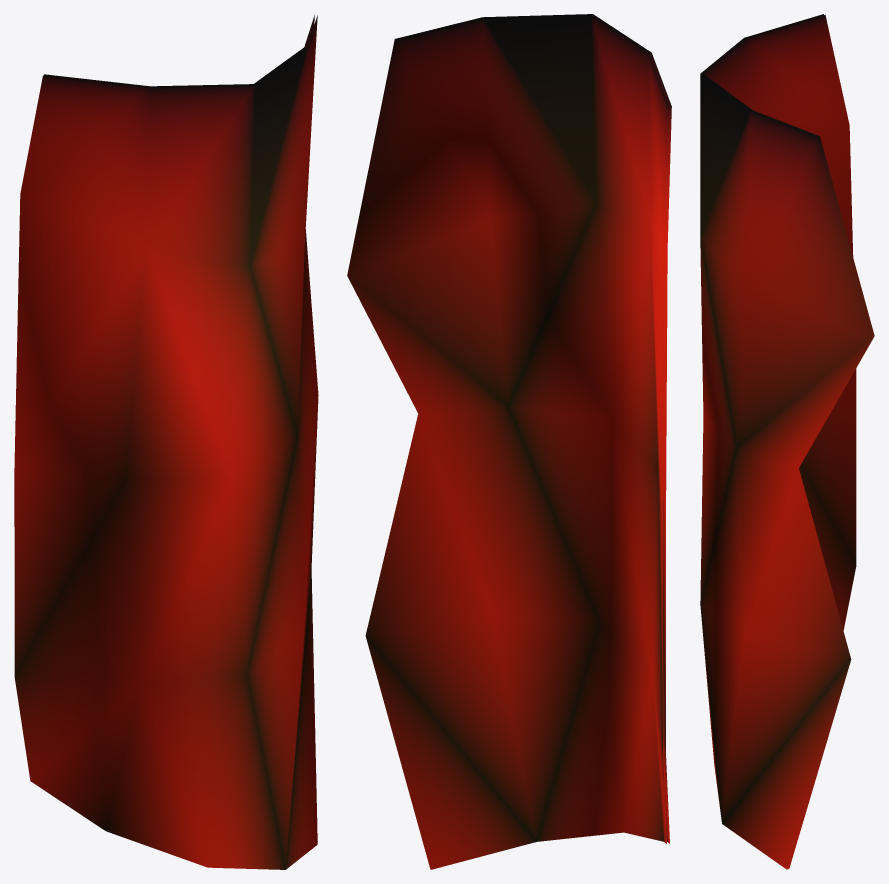
File: ivyCornerVertical_high.FBX
3 renders of one model, left to right at view 1: azimuth 30°, elevation 25°; view 2: azimuth 150°, elevation 25°; view 3: azimuth 270°, elevation 25°, orthographic. The views are drawn at different scales.
Visible parts, largest first — view 1: ivyCornerVertical_high; view 2: ivyCornerVertical_high; view 3: ivyCornerVertical_high.
Part boxes in pixels (box(x1,y1,x2,y2)): ivyCornerVertical_high: box(14, 14, 318, 869); ivyCornerVertical_high: box(347, 14, 671, 869); ivyCornerVertical_high: box(700, 14, 874, 869).
Bounding box in the file's own units: 0.241 × 0.6324 × 0.1337.
